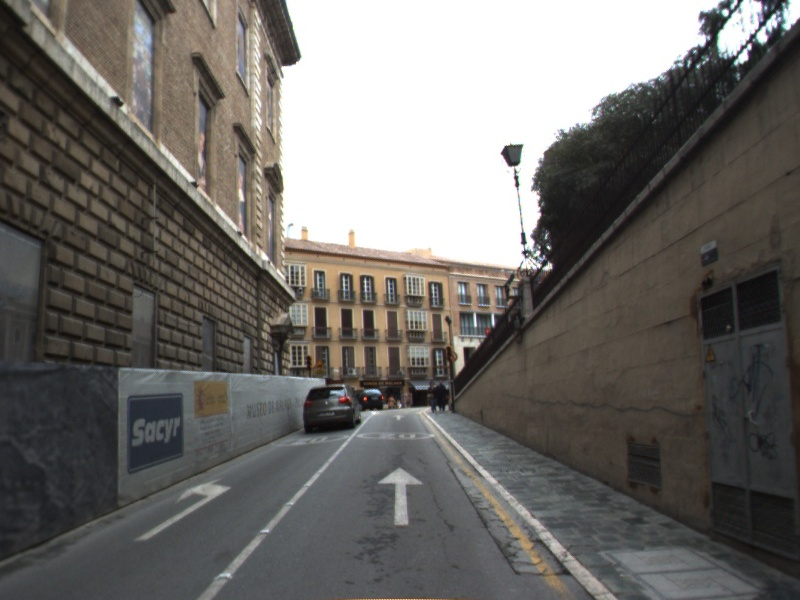LEFT: (132, 476, 234, 544)
STRAIGHT: (375, 465, 426, 527), (391, 413, 406, 422)
